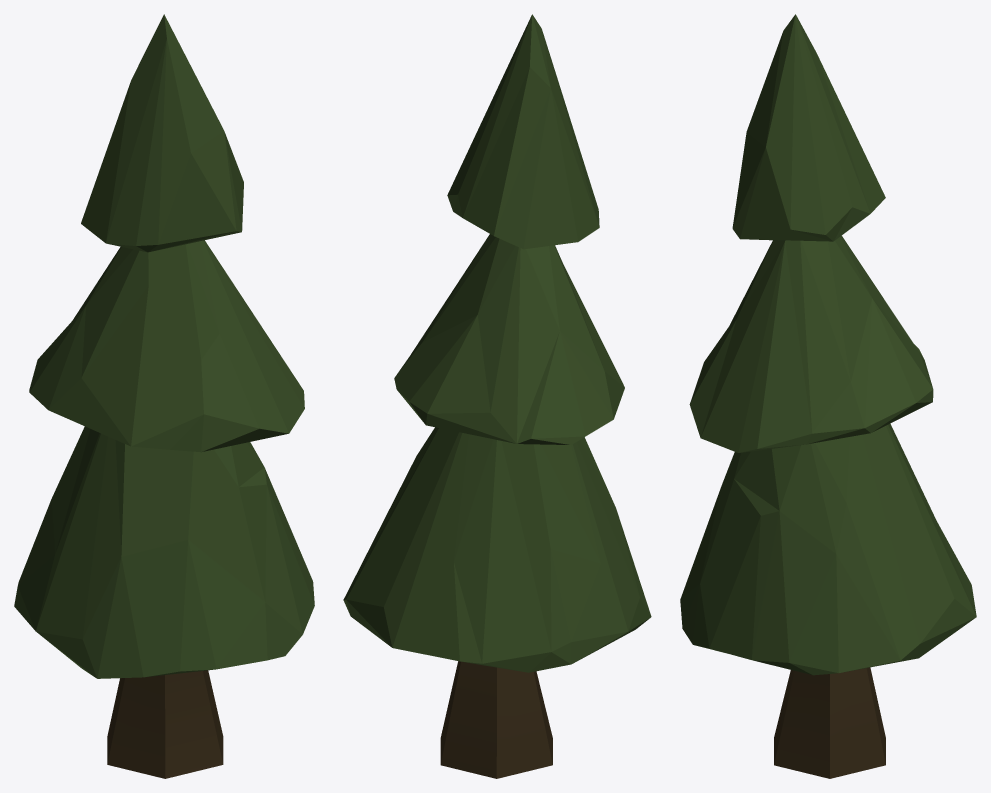
The model's file is green pine 2.fbx.
3 renders of one model, left to right at view 1: azimuth 30°, elevation 25°; view 2: azimuth 150°, elevation 25°; view 3: azimuth 270°, elevation 25°, orthographic. The views are drawn at different scales.
Parts seen in each view (by area): view 1: pCylinder5, pasted__pCylinder6; view 2: pCylinder5, pasted__pCylinder6; view 3: pCylinder5, pasted__pCylinder6.
Part boxes in pixels (left/top/right/bottom): pCylinder5: left=14, top=14, right=314, bottom=678; pasted__pCylinder6: left=107, top=670, right=223, bottom=778; pCylinder5: left=343, top=14, right=651, bottom=672; pasted__pCylinder6: left=440, top=661, right=552, bottom=778; pCylinder5: left=680, top=14, right=976, bottom=675; pasted__pCylinder6: left=774, top=667, right=885, bottom=778.
Size of the model in its own units: 1.43 by 3.81 by 1.41.
